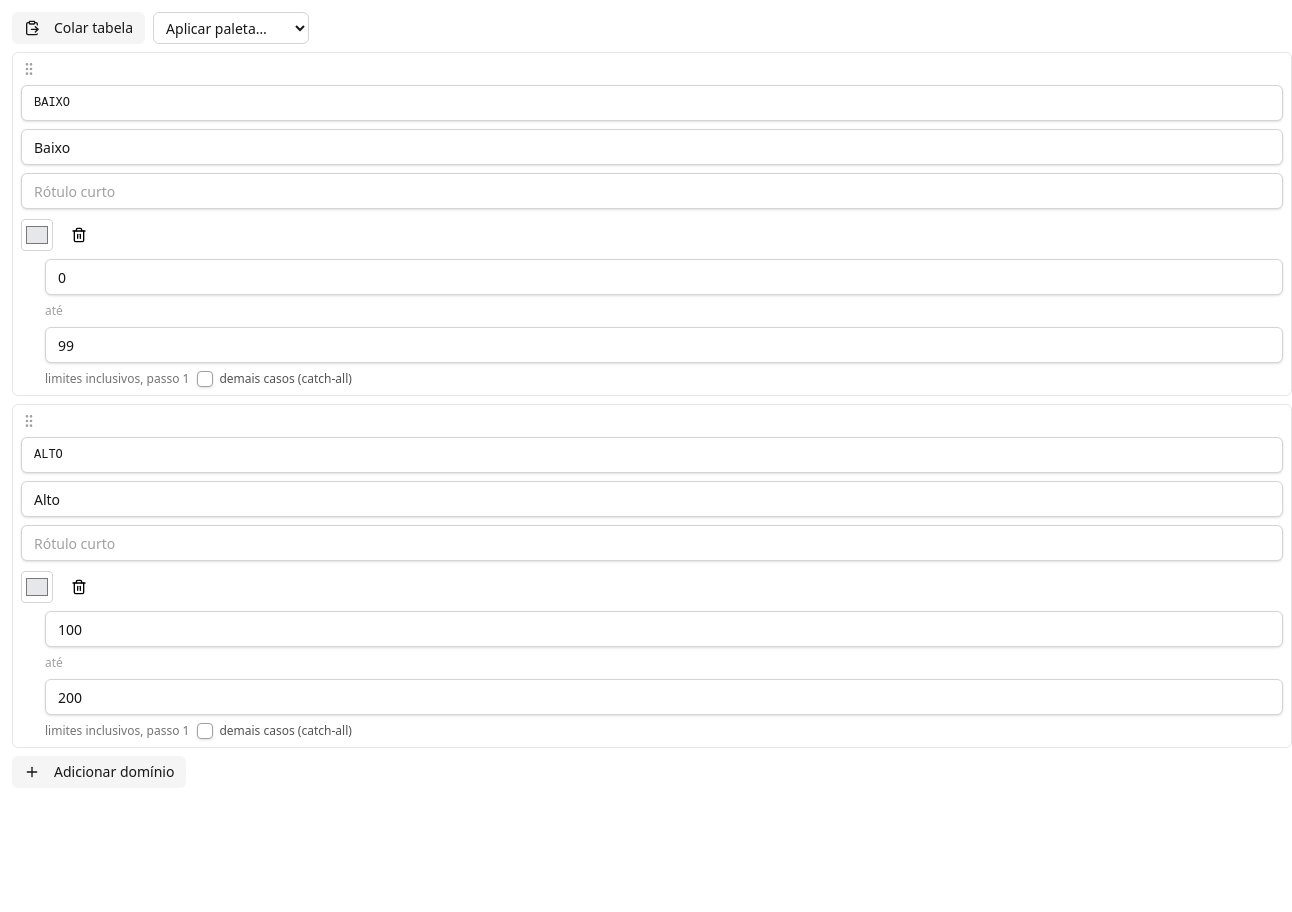
Test case: DomainsEditor — validação de contiguidade em tempo real › some ao corrigir de volta o buraco
Replace the text in the 1st field named "Máximo" with "50" at point(664, 345), box [45,327,1283,363]
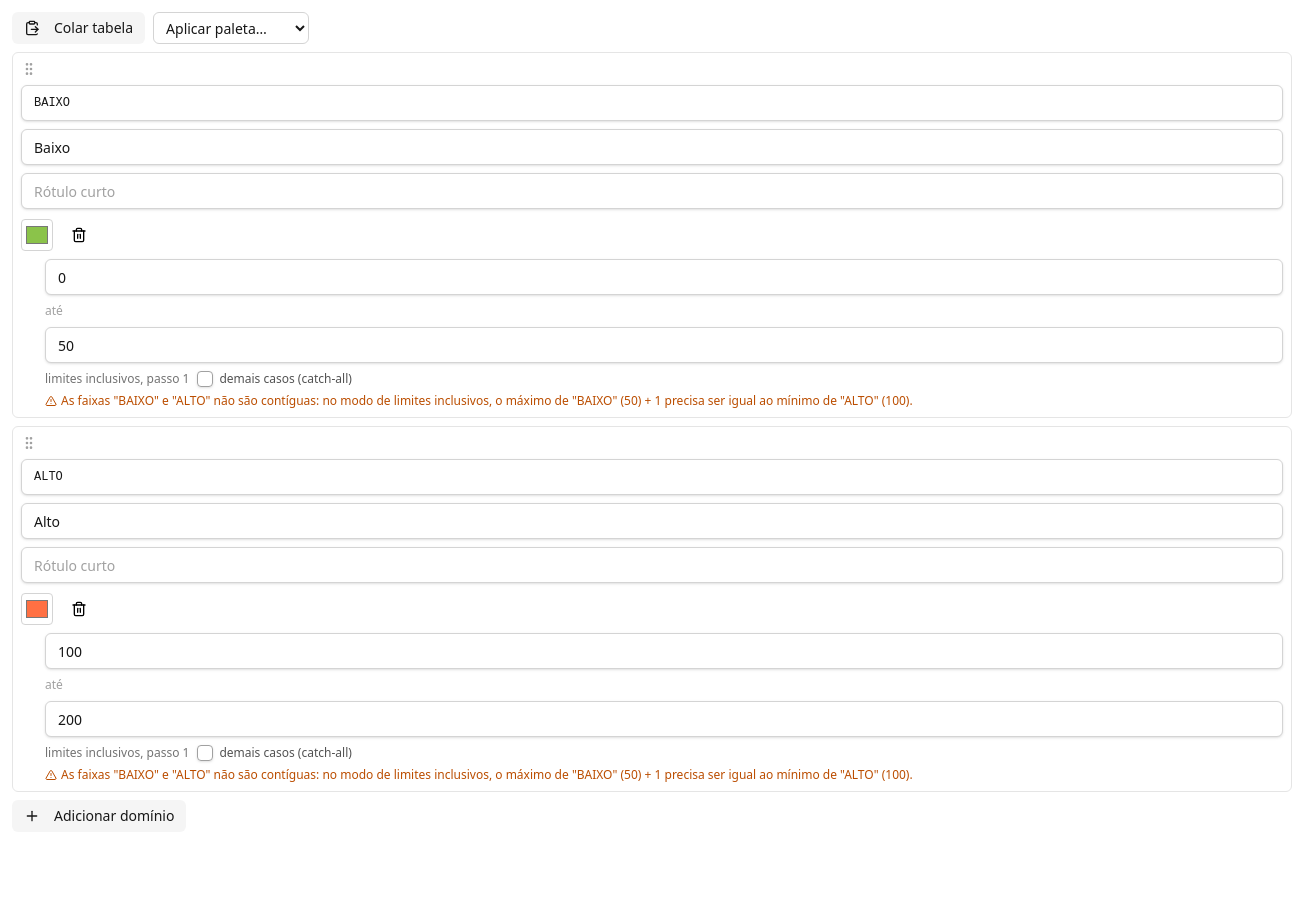
Check: the 1st list item "não são contíguas" is shown, box [61,392,913,409]
Replace the text in the 1st field named "Máximo" with "99" at point(664, 345), box [45,327,1283,363]
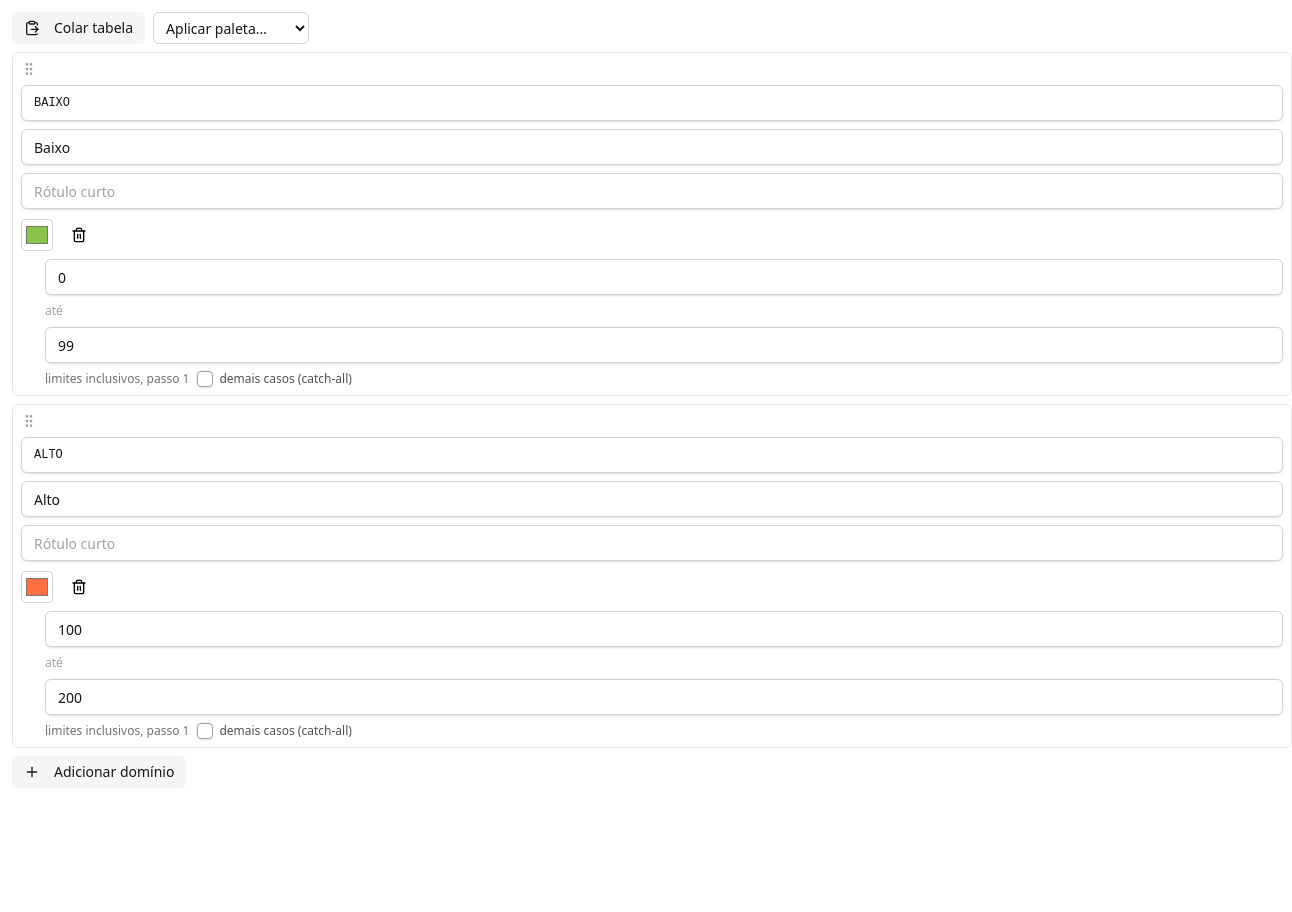
Check: the list item "não são contíguas" is gone
